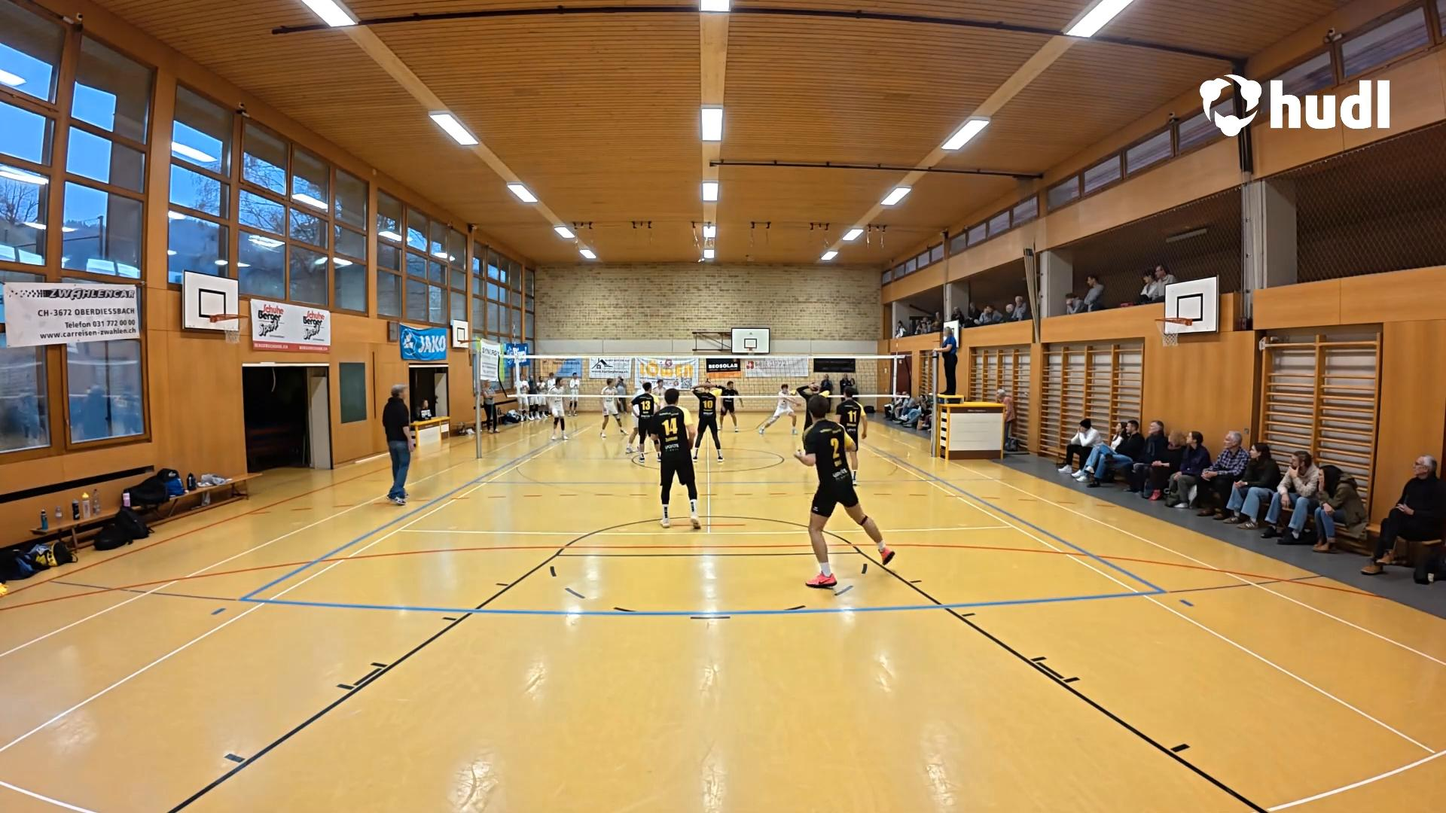Player: (790, 392, 898, 588), (646, 385, 703, 529), (692, 379, 725, 457), (628, 382, 658, 460), (592, 370, 625, 438), (839, 382, 868, 458), (797, 375, 832, 428), (547, 373, 574, 439), (715, 376, 742, 437), (646, 374, 669, 409)
Receive: (758, 375, 804, 437)
ball: (783, 386, 797, 399)
